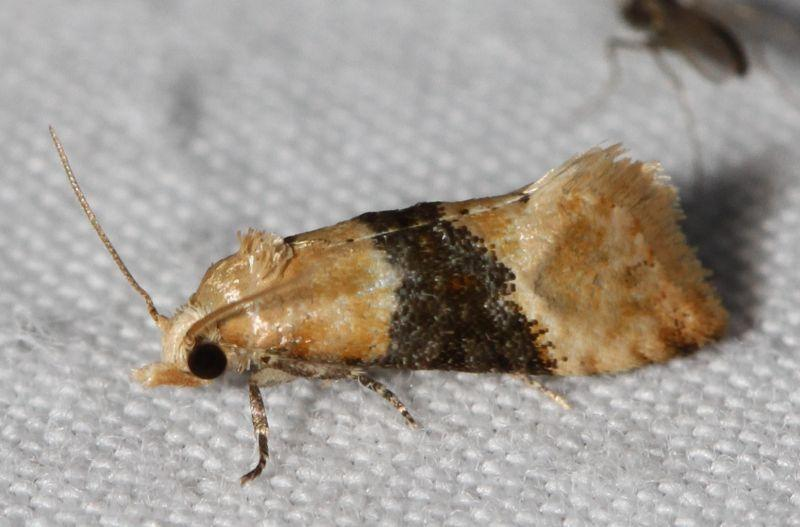Eupoecilia Ambiguella: (44, 121, 731, 488)
